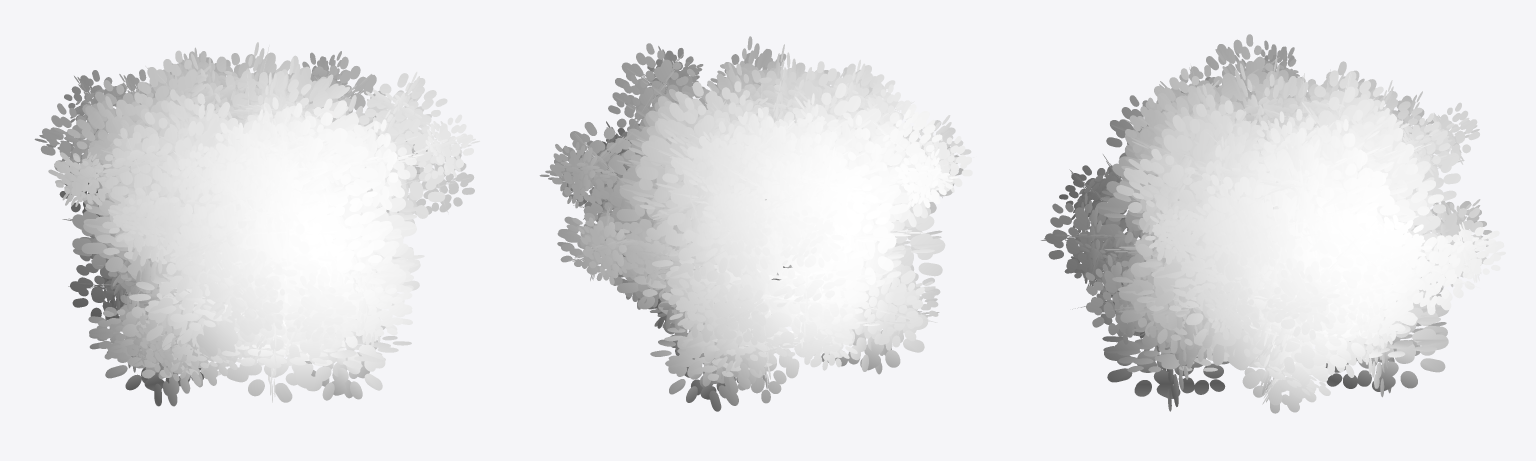
Rendered from Bush_Common.gltf.
3 renders of one model, left to right at view 1: azimuth 30°, elevation 25°; view 2: azimuth 150°, elevation 25°; view 3: azimuth 270°, elevation 25°, orthographic. The views are drawn at different scales.
Visible parts, largest first — view 1: Bush_Common; view 2: Bush_Common; view 3: Bush_Common.
Part boxes in pixels (bbox=[...]): Bush_Common: bbox=[34, 42, 479, 406]; Bush_Common: bbox=[539, 36, 974, 411]; Bush_Common: bbox=[1041, 34, 1505, 413].
Size of the model in its own units: 1.91 by 1.58 by 1.97.
Materials: 1 (1 with a texture image).
